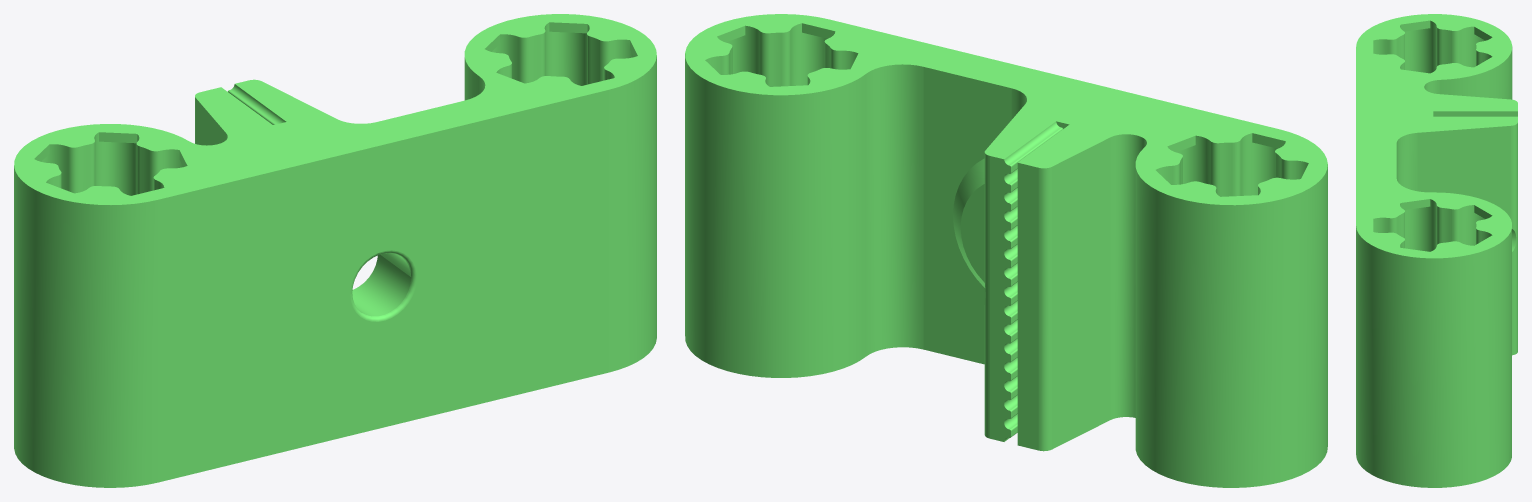
Rendered from linear-mechanism-1-block-rod-8mm.glb.
3 renders of one model, left to right at view 1: azimuth 30°, elevation 25°; view 2: azimuth 150°, elevation 25°; view 3: azimuth 270°, elevation 25°, orthographic. The views are drawn at different scales.
Parts seen in each view (by area): view 1: FusionComponent; view 2: FusionComponent; view 3: FusionComponent.
Part boxes in pixels (x1,y1,x2,y2): FusionComponent: (14, 14, 656, 487); FusionComponent: (685, 14, 1327, 487); FusionComponent: (1356, 14, 1517, 487).
Bounding box in the file's own units: 68.49 × 30 × 19.16.
